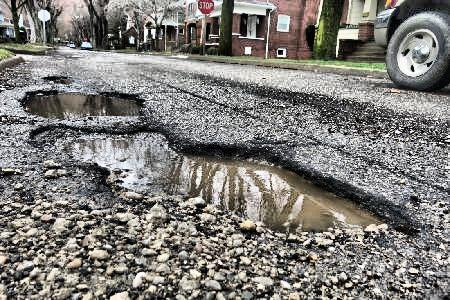pothole: (26, 127, 394, 244), (16, 87, 145, 120), (40, 72, 71, 84)
